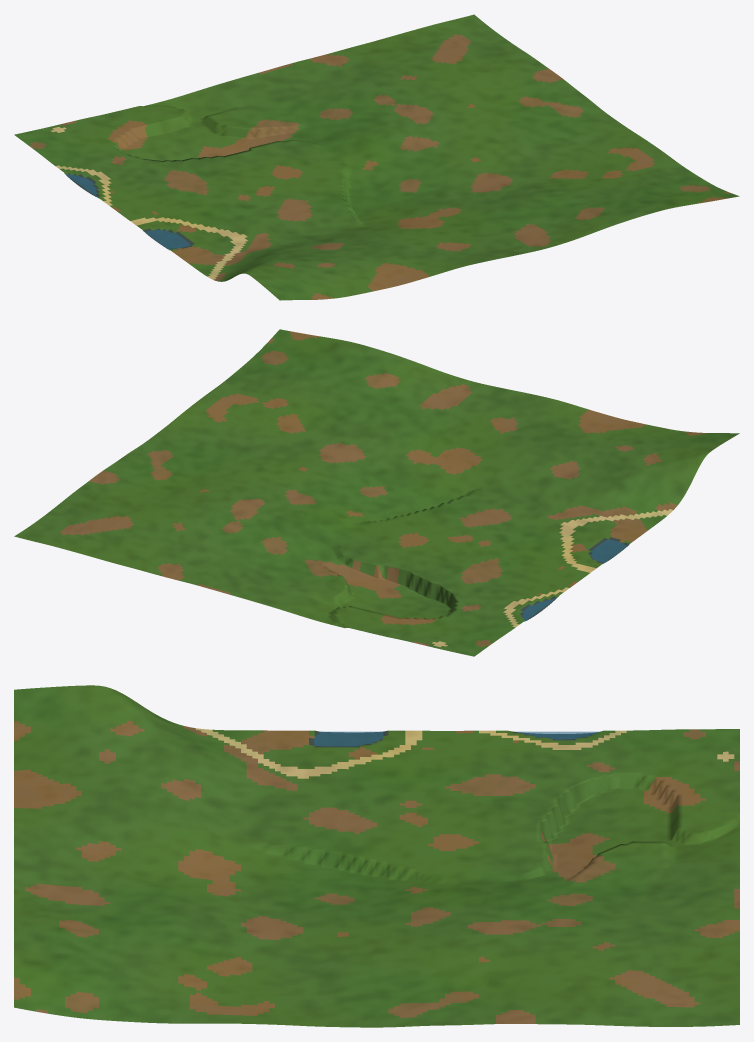
File: chunk_3_7.glb
The picture shows the model from 3 angles, top to bottom: view 1: azimuth 30°, elevation 25°; view 2: azimuth 150°, elevation 25°; view 3: azimuth 270°, elevation 25°; orthographic projection. The views are drawn at different scales.
Parts seen in each view (by area): view 1: Surface_Grass, Surface_Dirt, Surface_Sand, Surface_Water, Water; view 2: Surface_Grass, Surface_Dirt, Surface_Sand, Surface_Water, Water; view 3: Surface_Grass, Surface_Dirt, Surface_Sand, Water, Surface_Water.
Part boxes in pixels (x1,y1,x2,y2): Surface_Grass: (14, 14, 739, 300); Surface_Dirt: (29, 34, 730, 299); Surface_Sand: (51, 127, 247, 279); Surface_Water: (66, 173, 194, 249); Water: (64, 173, 190, 250); Surface_Grass: (14, 329, 739, 656); Surface_Dirt: (59, 331, 706, 646); Surface_Sand: (432, 509, 673, 647); Surface_Water: (520, 537, 629, 620); Water: (523, 539, 627, 621); Surface_Grass: (14, 685, 739, 1027); Surface_Dirt: (14, 720, 739, 1023); Surface_Sand: (195, 728, 734, 778); Water: (314, 731, 599, 746); Surface_Water: (309, 730, 598, 747).
Size of the model in its own units: 256 by 25.32 by 256.
